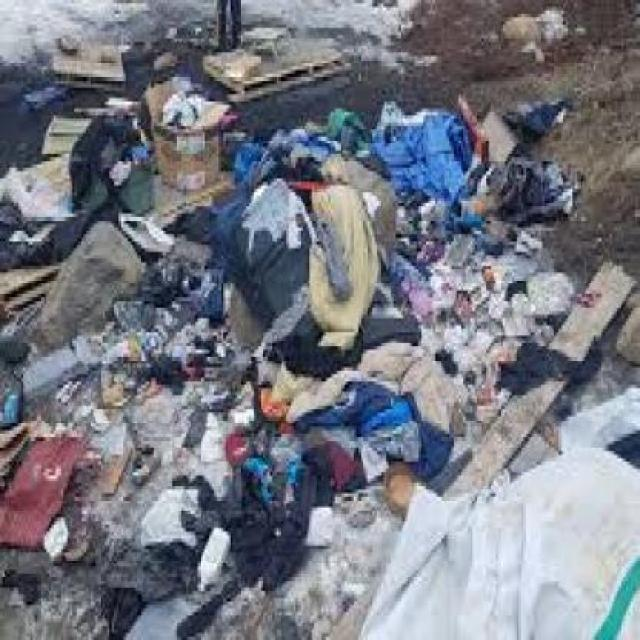garbage: (0, 17, 637, 636)
